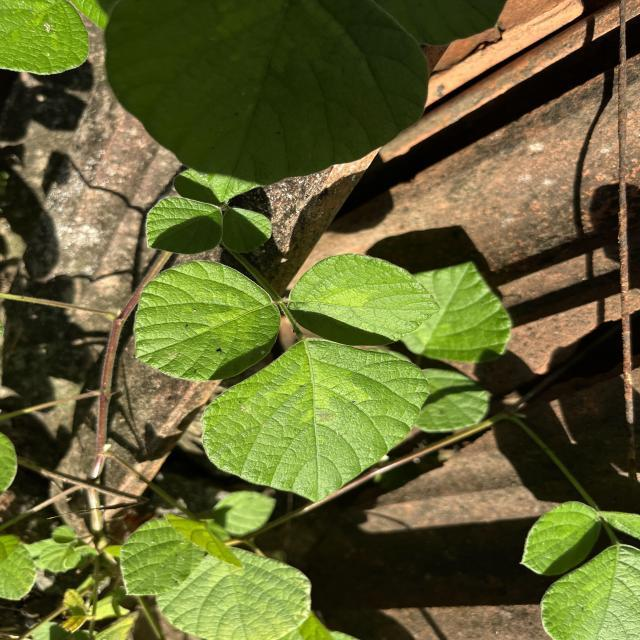Pseudarthria viscida: (131, 250, 444, 504)
